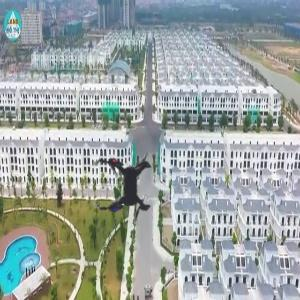drone: (62, 123, 196, 257)
